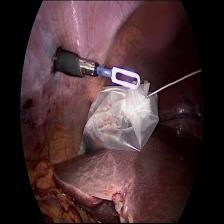Bipolar: (83, 53, 142, 89)
Specimen Bag: (71, 90, 160, 162)
